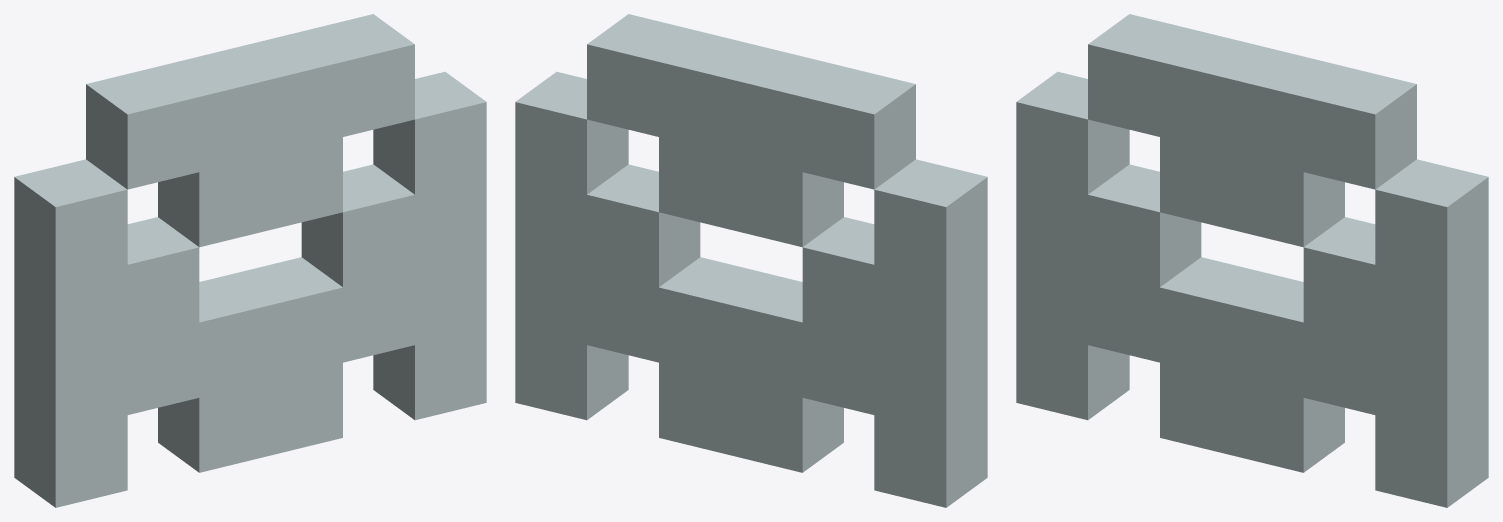
3 renders of one model, left to right at view 1: azimuth 30°, elevation 25°; view 2: azimuth 150°, elevation 25°; view 3: azimuth 330°, elevation 25°, orthographic.
Parts seen in each view (by area): view 1: 19.1; view 2: 19.1; view 3: 19.1.
Boxes of the visible parts, x1=… form: 19.1: x1=14, y1=14, x2=486, y2=507; 19.1: x1=515, y1=14, x2=987, y2=507; 19.1: x1=1016, y1=14, x2=1488, y2=507.
Size of the model in its own units: 60 by 50 by 10.
Materials: 1 (1 with a texture image).
